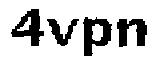4: (7, 6, 45, 53)
n: (112, 17, 149, 50)
p: (81, 12, 113, 60)
v: (46, 15, 82, 51)
